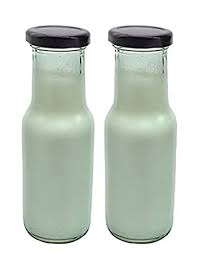milk: (19, 23, 94, 244), (102, 18, 175, 240)
